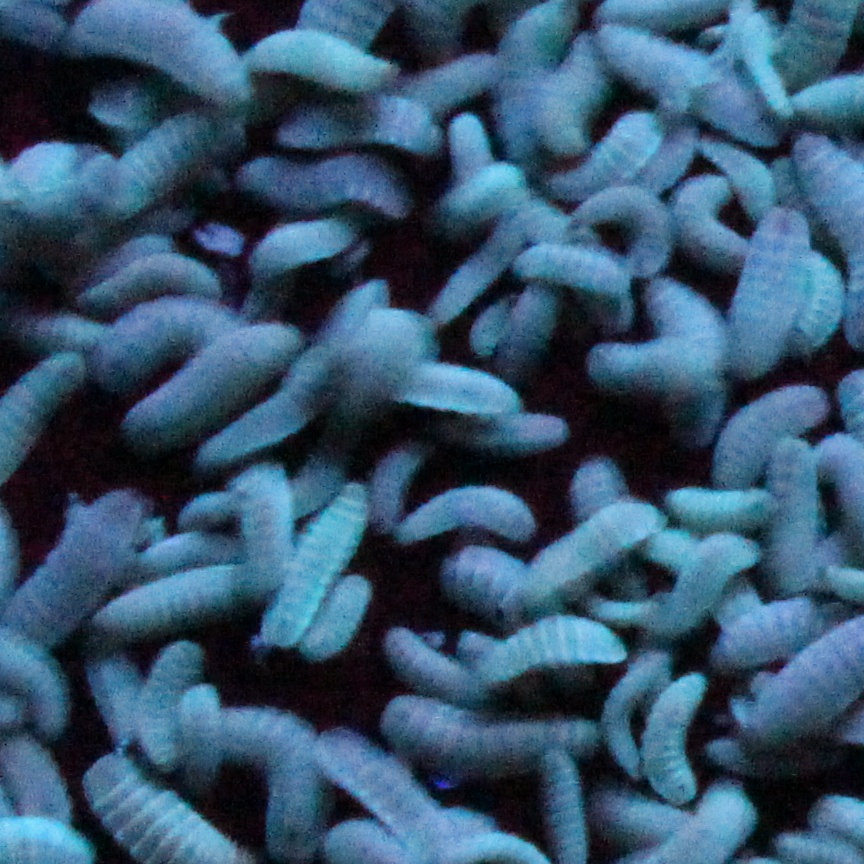larve: (121, 325, 302, 448), (10, 491, 138, 637), (262, 480, 366, 651), (379, 687, 600, 761), (105, 106, 243, 218), (524, 498, 659, 608), (722, 211, 810, 379), (100, 561, 257, 642), (714, 382, 826, 489), (581, 22, 714, 111), (241, 149, 412, 217), (474, 617, 628, 692), (540, 111, 664, 198), (240, 27, 397, 94), (133, 639, 209, 768), (276, 99, 450, 151), (398, 486, 543, 546), (78, 253, 226, 311), (571, 186, 666, 273), (383, 360, 528, 417), (253, 211, 362, 280), (643, 673, 700, 798), (660, 477, 778, 534), (441, 158, 526, 236), (583, 337, 712, 384), (702, 142, 781, 218), (303, 573, 369, 660), (555, 41, 600, 146), (802, 244, 843, 356), (443, 413, 571, 448)
